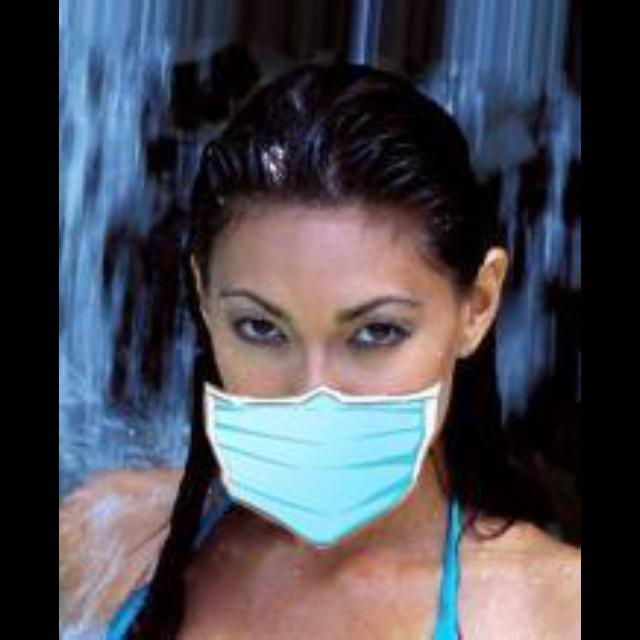suspicion: (155, 96, 489, 522)
